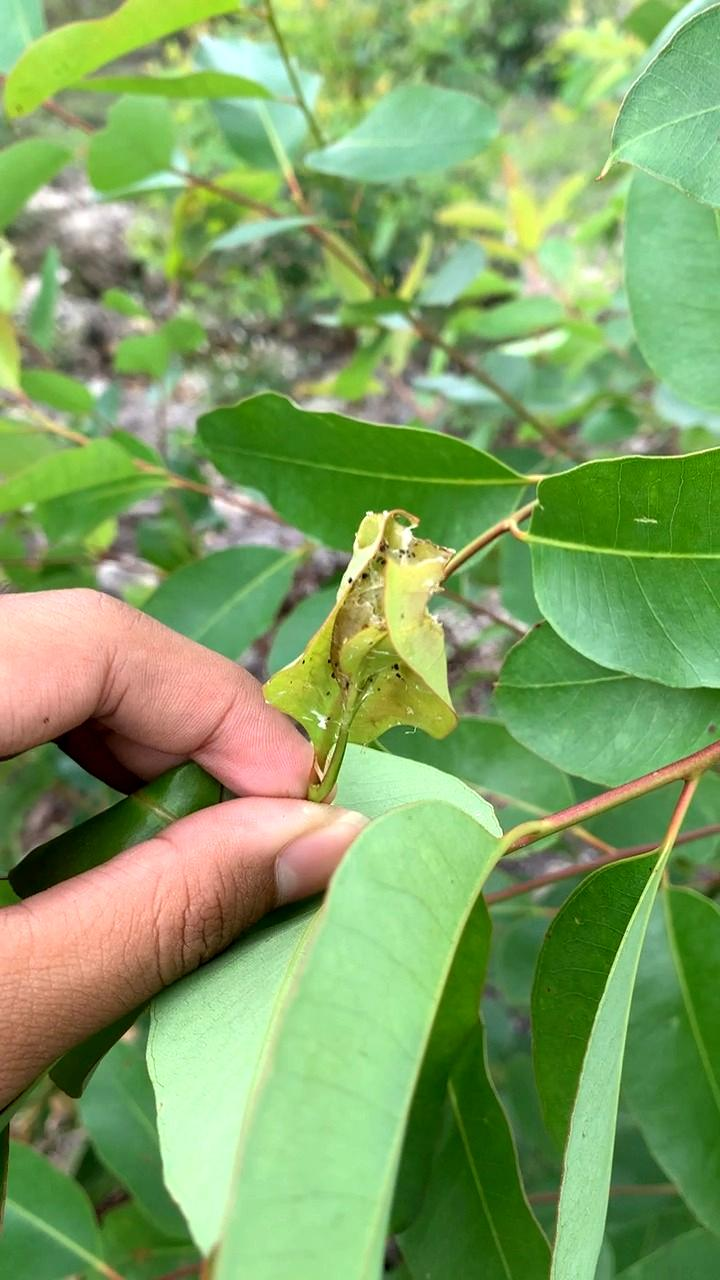Leaf Roller - Leaf: (276, 506, 473, 767)
